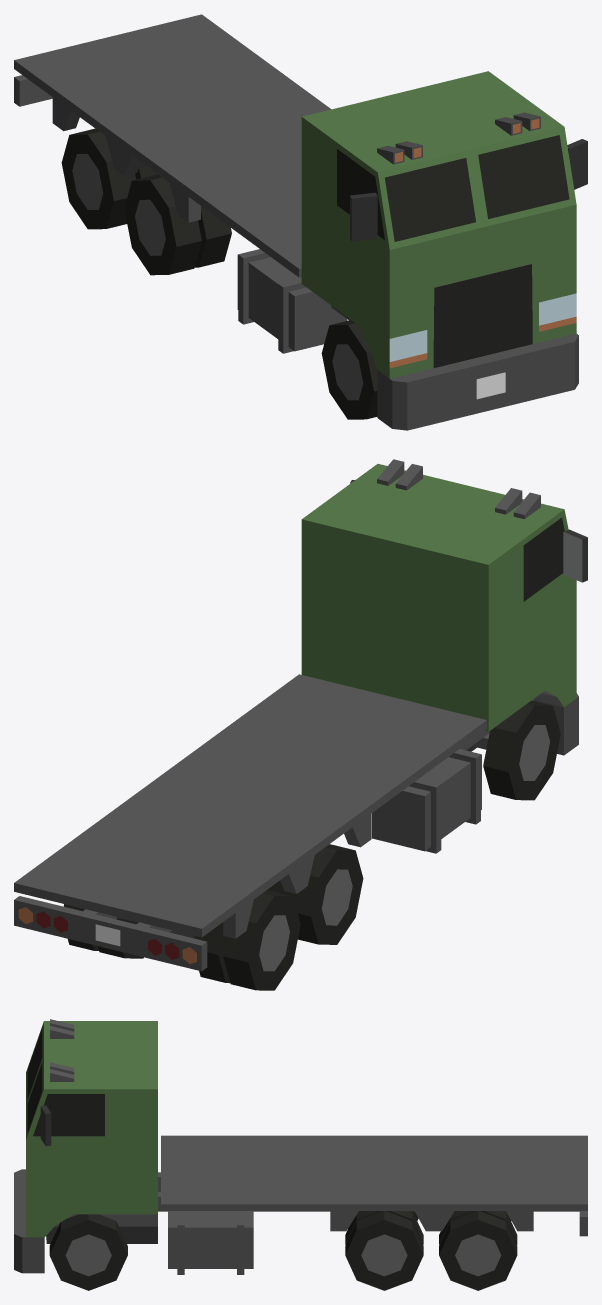
File: Veh_Truck_03_Flat_Green.obj
3 views of the same model, one above another, from view 1: azimuth 30°, elevation 25°; view 2: azimuth 150°, elevation 25°; view 3: azimuth 270°, elevation 25° (orthographic). The views are drawn at different scales.
Size of the model in its own units: 1.68 by 1.92 by 4.74.
